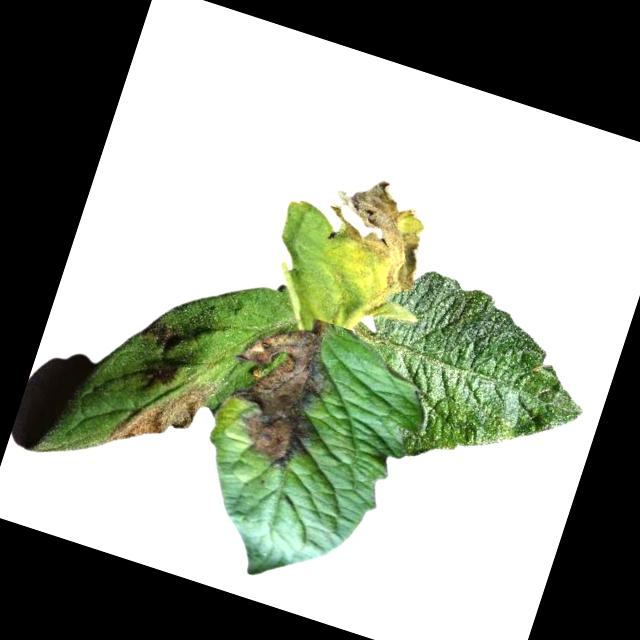Late_blight: (208, 297, 351, 476), (300, 167, 441, 327), (105, 356, 219, 472), (138, 316, 175, 353)
